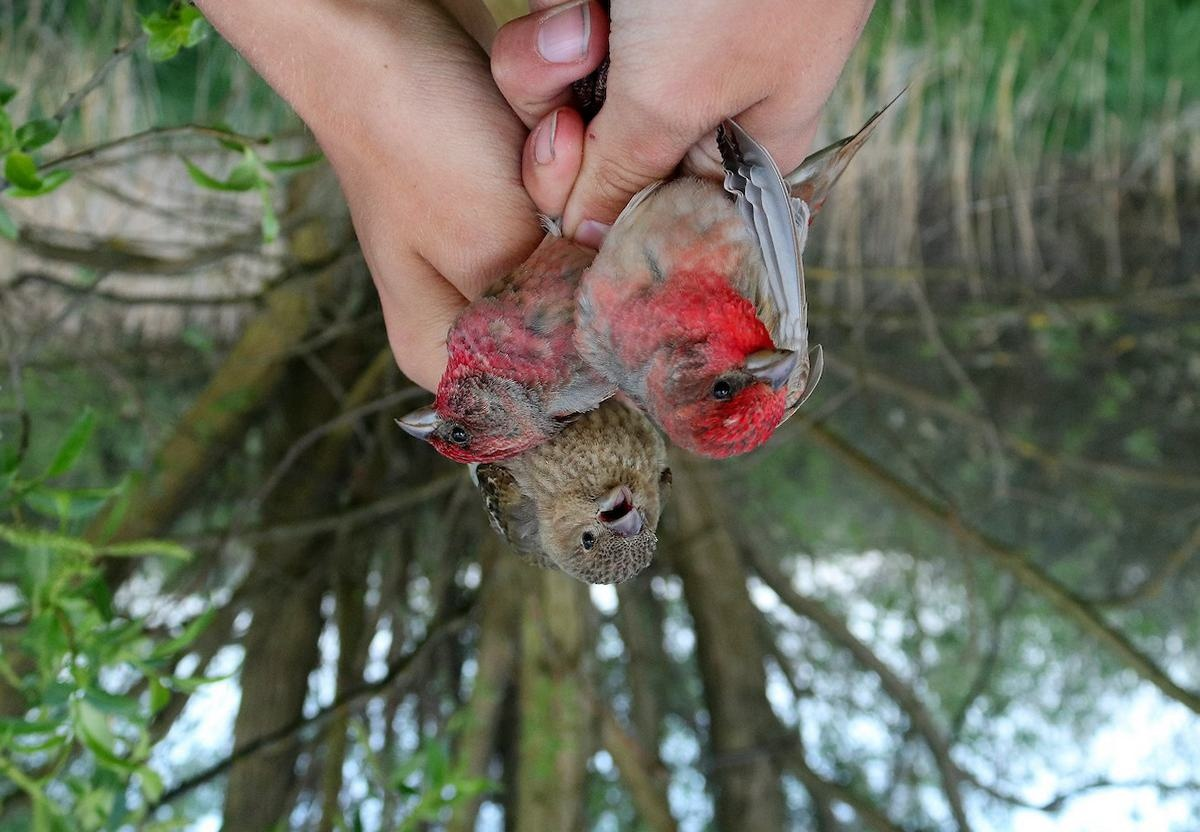rosefinch: (596, 170, 834, 479), (460, 409, 691, 649), (410, 231, 613, 471)
